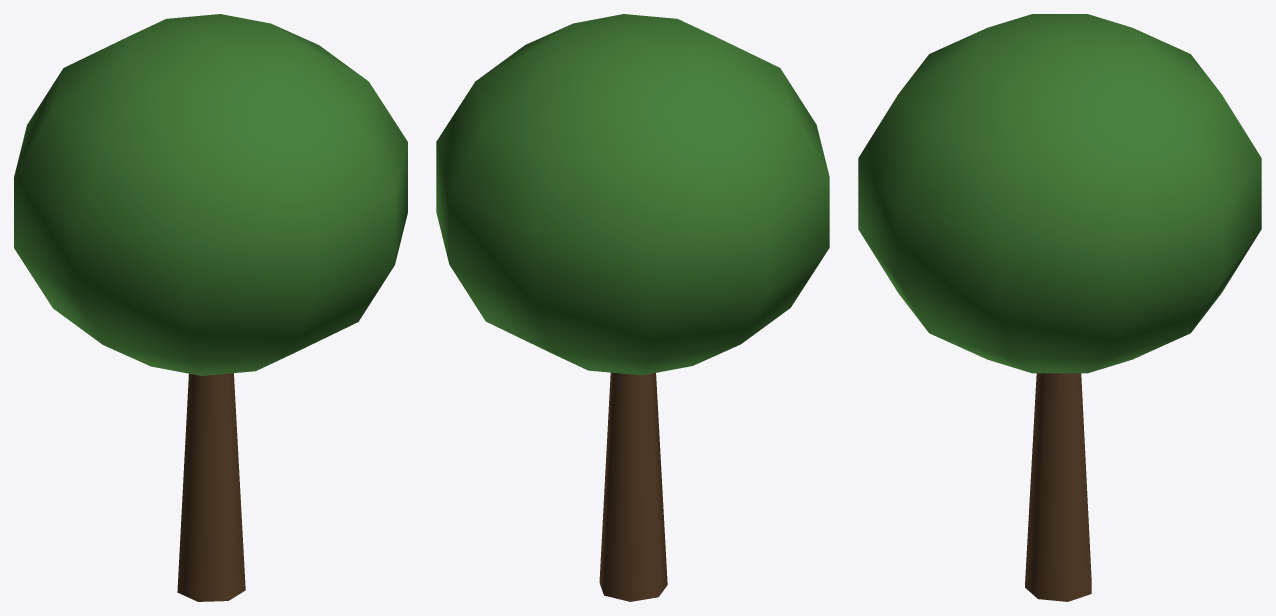
The model's file is feuillu.glb.
3 views of the same model, side by side, from view 1: azimuth 30°, elevation 25°; view 2: azimuth 150°, elevation 25°; view 3: azimuth 270°, elevation 25° (orthographic).
Parts seen in each view (by area): view 1: Houppier, Tronc; view 2: Houppier, Tronc; view 3: Houppier, Tronc.
Part boxes in pixels (x1,y1,x2,y2): Houppier: [14, 14, 407, 375]; Tronc: [177, 373, 245, 601]; Houppier: [436, 14, 829, 375]; Tronc: [599, 372, 667, 601]; Houppier: [858, 14, 1261, 373]; Tronc: [1025, 373, 1091, 601].
Size of the model in its own units: 1.85 by 2.95 by 1.95.
